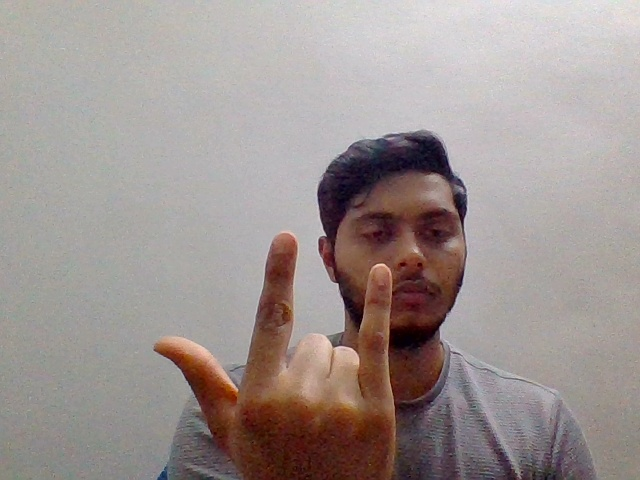I Love You: (139, 225, 414, 480)
